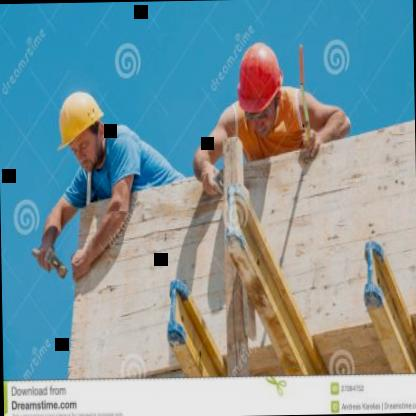helmet: (232, 30, 290, 141), (54, 81, 110, 173)
